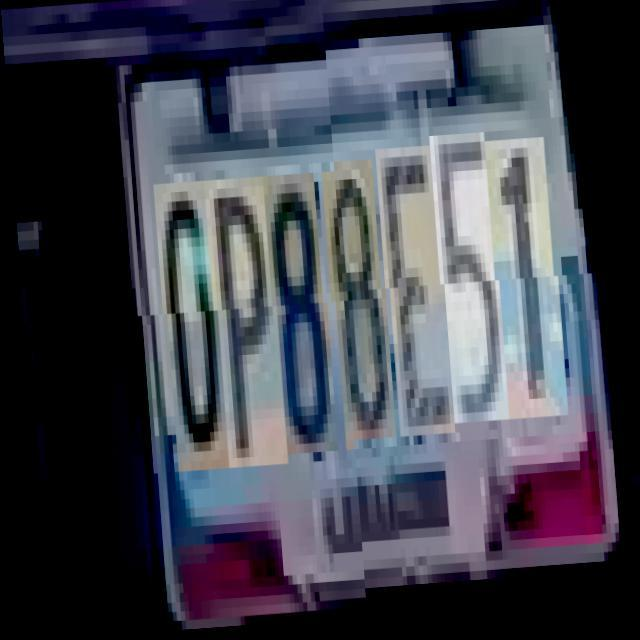1: (487, 154, 562, 436)
5: (432, 148, 502, 440)
8: (323, 174, 390, 455), (264, 178, 331, 458)
E: (377, 161, 448, 452)
O: (154, 183, 226, 474)
P: (204, 180, 280, 471)
